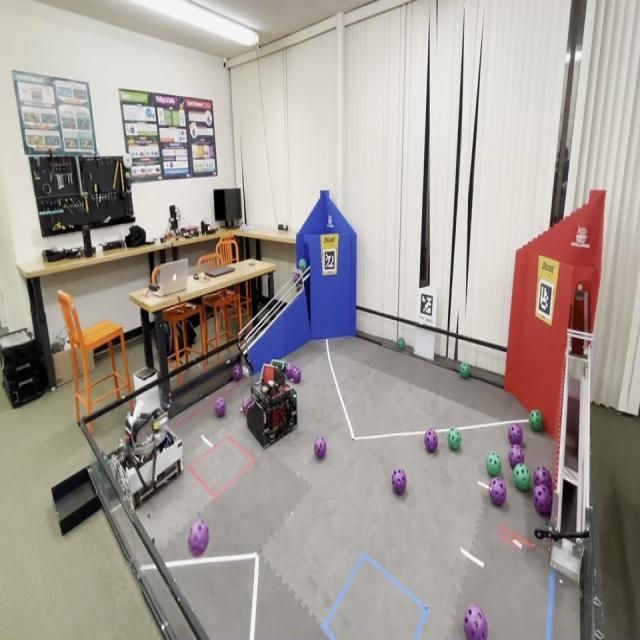artifact_green: (514, 464, 531, 491), (486, 451, 501, 477), (529, 409, 543, 432), (448, 428, 461, 451), (460, 362, 470, 379), (101, 451, 109, 465), (298, 259, 307, 271), (397, 337, 405, 350), (104, 456, 109, 465), (101, 450, 105, 457), (107, 459, 109, 466)
artifact_purple: (188, 517, 209, 557), (464, 604, 487, 639), (534, 485, 552, 516), (490, 477, 506, 506), (534, 466, 552, 489), (508, 445, 524, 469), (392, 469, 406, 495), (508, 424, 522, 445), (314, 435, 326, 459), (425, 430, 437, 453), (215, 398, 226, 418), (242, 396, 253, 414), (233, 364, 242, 381), (292, 366, 301, 383), (286, 363, 293, 379), (294, 273, 301, 285)
